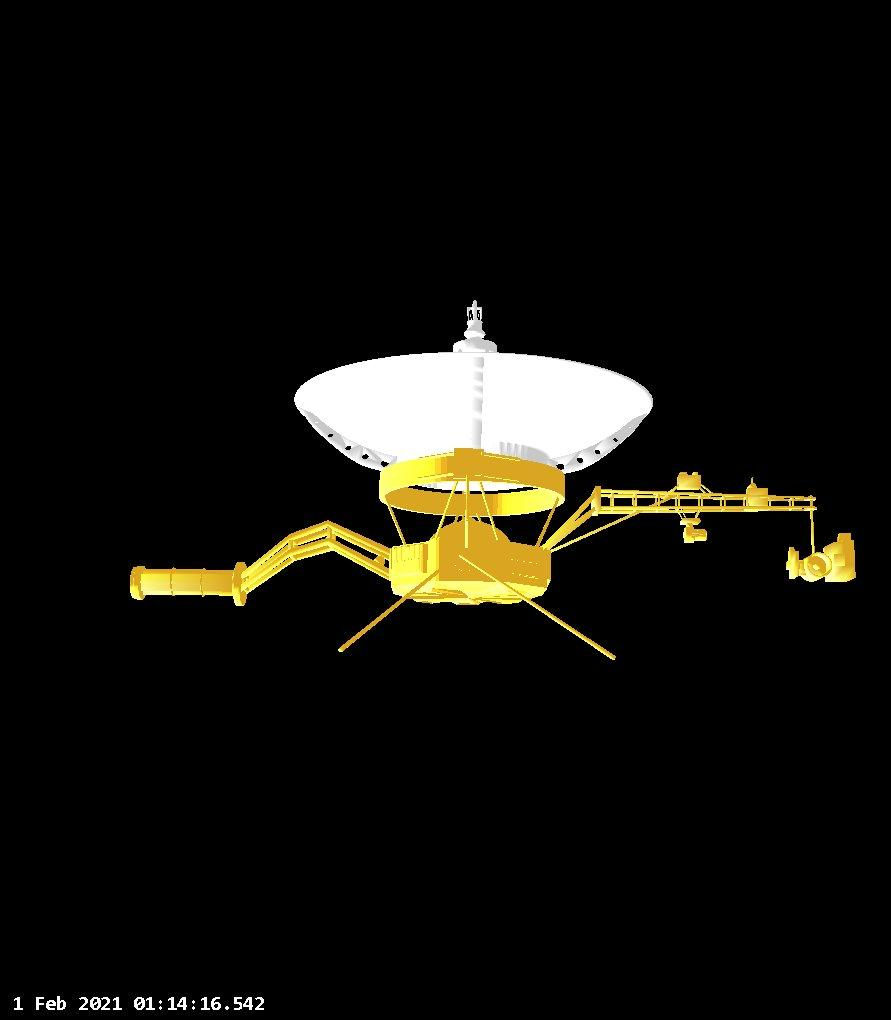antenna: (294, 299, 656, 494), (453, 545, 620, 663), (332, 561, 447, 659)
body: (387, 517, 555, 610)
